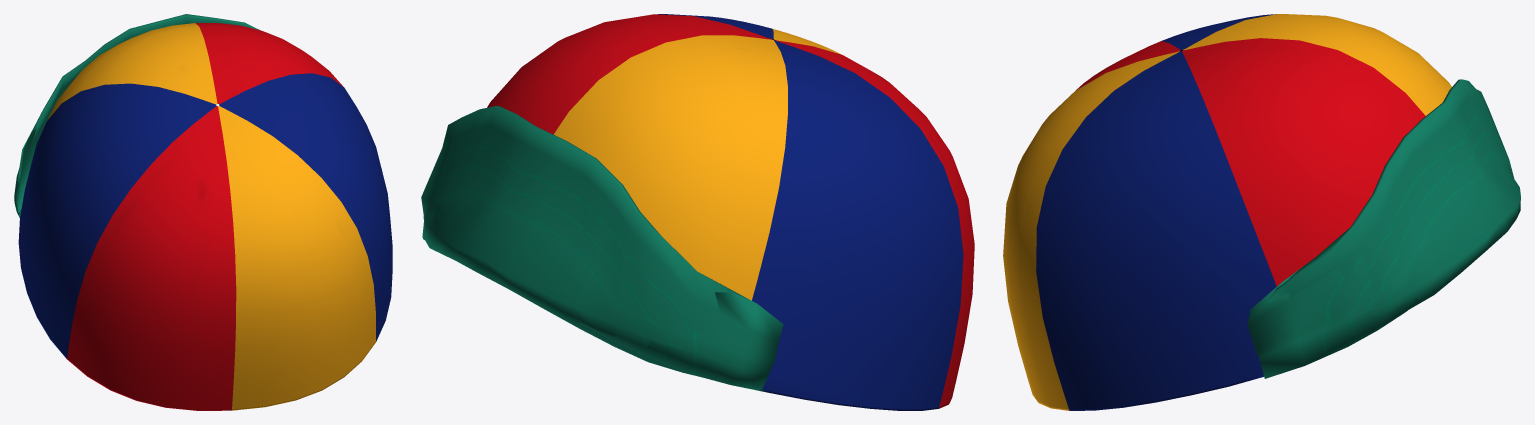
The model's file is Quico_Gorra.obj.
3 renders of one model, left to right at view 1: azimuth 30°, elevation 25°; view 2: azimuth 150°, elevation 25°; view 3: azimuth 270°, elevation 25°, orthographic. The views are drawn at different scales.
Parts seen in each view (by area): view 1: cap_cap_0; view 2: cap_cap_0; view 3: cap_cap_0.
Part boxes in pixels (box(x1,y1,x2,y2)): cap_cap_0: box(14, 14, 392, 410); cap_cap_0: box(421, 14, 974, 410); cap_cap_0: box(1003, 14, 1520, 410).
Size of the model in its own units: 0.1689 by 0.1352 by 0.1782.
Materials: 3 (3 with a texture image).
